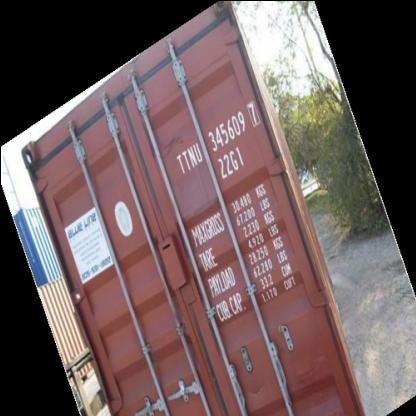Damage: (290, 345, 326, 387), (151, 124, 195, 155), (239, 379, 265, 403)
